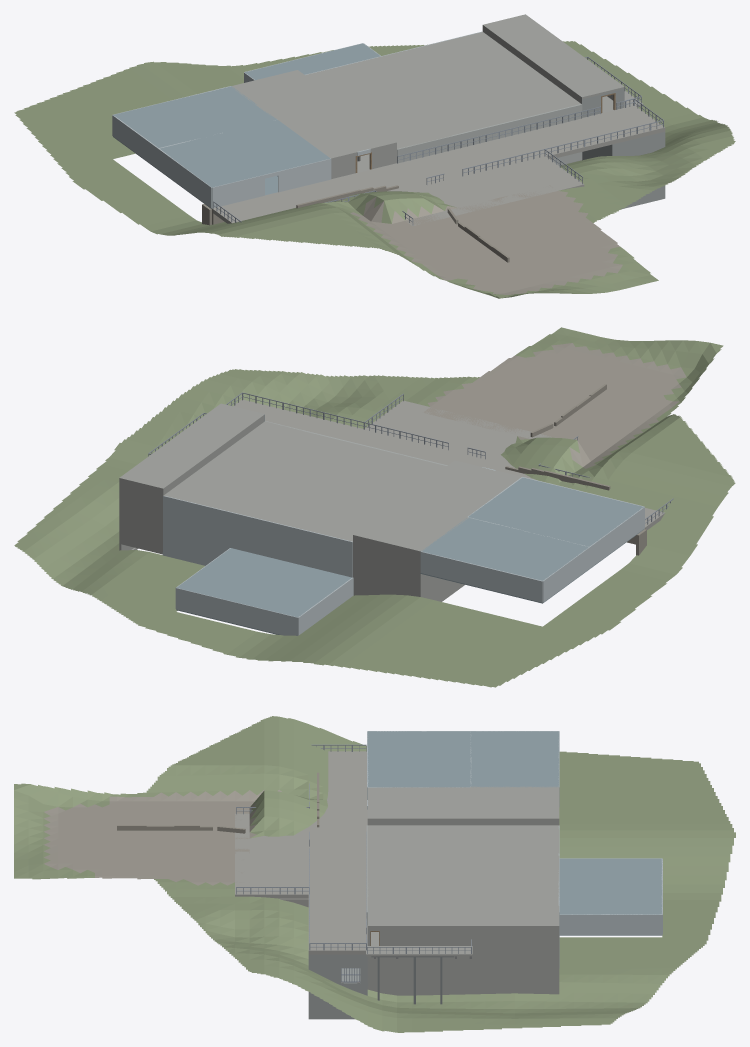
File: east-bank.glb
3 views of the same model, one above another, from view 1: azimuth 30°, elevation 25°; view 2: azimuth 150°, elevation 25°; view 3: azimuth 270°, elevation 25° (orthographic). The views are drawn at different scales.
Visible parts, largest first — view 1: Dam saved east-bank ground, WLD-09 turbine enclosed roof region0, WLD-09 complete structural crest deck region0, WLD-09 west hall enclosed roof region0, Ceiling cap control, Ceiling cap office, WLD-09 complete bridge arrival forecourt region0, WLD-09 east hall enclosed roof region0, WLD-09 restart shared turbine workshop north end pier region, Ceiling cap plant, Wall control W, Flat route shell Wall control S.001 (+6 smaller); view 2: Dam saved east-bank ground, WLD-09 turbine enclosed roof region0, WLD-09 west hall enclosed roof region0, Ceiling cap plant, Ceiling cap control, Flat route shell Wall turbine N.001, Ceiling cap office, WLD-09 complete bridge arrival forecourt region0, WLD-09 east hall enclosed roof region0, WLD-09 complete structural crest deck region0, WLD-09 west-hall N end region0, WLD-09 hall N end region0 (+7 smaller); view 3: Dam saved east-bank ground, WLD-09 turbine enclosed roof region0, WLD-09 complete structural crest deck region0, WLD-09 hall E pier0 region0, WLD-09 west hall enclosed roof region0, Ceiling cap control, Ceiling cap plant, Ceiling cap office, WLD-09 complete bridge arrival forecourt region0, WLD-09 east hall enclosed roof region0, Wall plant E, Entrance rebuild Dam east hall foundation stem (+5 smaller).
Part boxes in pixels (x1,y1,x2,y2): Dam saved east-bank ground: [14, 41, 735, 298]; WLD-09 turbine enclosed roof region0: [305, 32, 580, 148]; WLD-09 complete structural crest deck region0: [212, 105, 665, 223]; WLD-09 west hall enclosed roof region0: [232, 70, 396, 160]; Ceiling cap control: [160, 119, 330, 187]; Ceiling cap office: [113, 86, 276, 147]; WLD-09 complete bridge arrival forecourt region0: [403, 156, 584, 225]; WLD-09 east hall enclosed roof region0: [482, 14, 624, 99]; WLD-09 restart shared turbine workshop north end pier region: [462, 104, 582, 165]; Ceiling cap plant: [245, 43, 380, 80]; Wall control W: [158, 148, 211, 208]; Flat route shell Wall control S.001: [277, 158, 331, 192]; Dam saved east-bank ground: [14, 327, 735, 687]; WLD-09 turbine enclosed roof region0: [163, 421, 446, 541]; WLD-09 west hall enclosed roof region0: [353, 460, 519, 553]; Ceiling cap plant: [176, 548, 351, 617]; Ceiling cap control: [468, 477, 643, 546]; Flat route shell Wall turbine N.001: [163, 496, 286, 563]; Ceiling cap office: [421, 517, 588, 580]; WLD-09 complete bridge arrival forecourt region0: [365, 400, 554, 464]; WLD-09 east hall enclosed roof region0: [119, 403, 264, 490]; WLD-09 complete structural crest deck region0: [233, 399, 664, 529]; WLD-09 west-hall N end region0: [353, 535, 421, 596]; WLD-09 hall N end region0: [119, 478, 164, 552]; Dam saved east-bank ground: [14, 716, 735, 1032]; WLD-09 turbine enclosed roof region0: [367, 825, 559, 905]; WLD-09 complete structural crest deck region0: [308, 751, 367, 954]; WLD-09 hall E pier0 region0: [379, 925, 559, 985]; WLD-09 west hall enclosed roof region0: [367, 787, 559, 820]; Ceiling cap control: [367, 731, 470, 787]; Ceiling cap plant: [559, 858, 662, 914]; Ceiling cap office: [470, 731, 559, 787]; WLD-09 complete bridge arrival forecourt region0: [235, 813, 308, 898]; WLD-09 east hall enclosed roof region0: [367, 905, 559, 927]; Wall plant E: [559, 914, 662, 934]; Entrance rebuild Dam east hall foundation stem: [367, 986, 559, 995].
Size of the model in its own units: 85 by 13.4 by 98.
45 materials, 26 textured.
